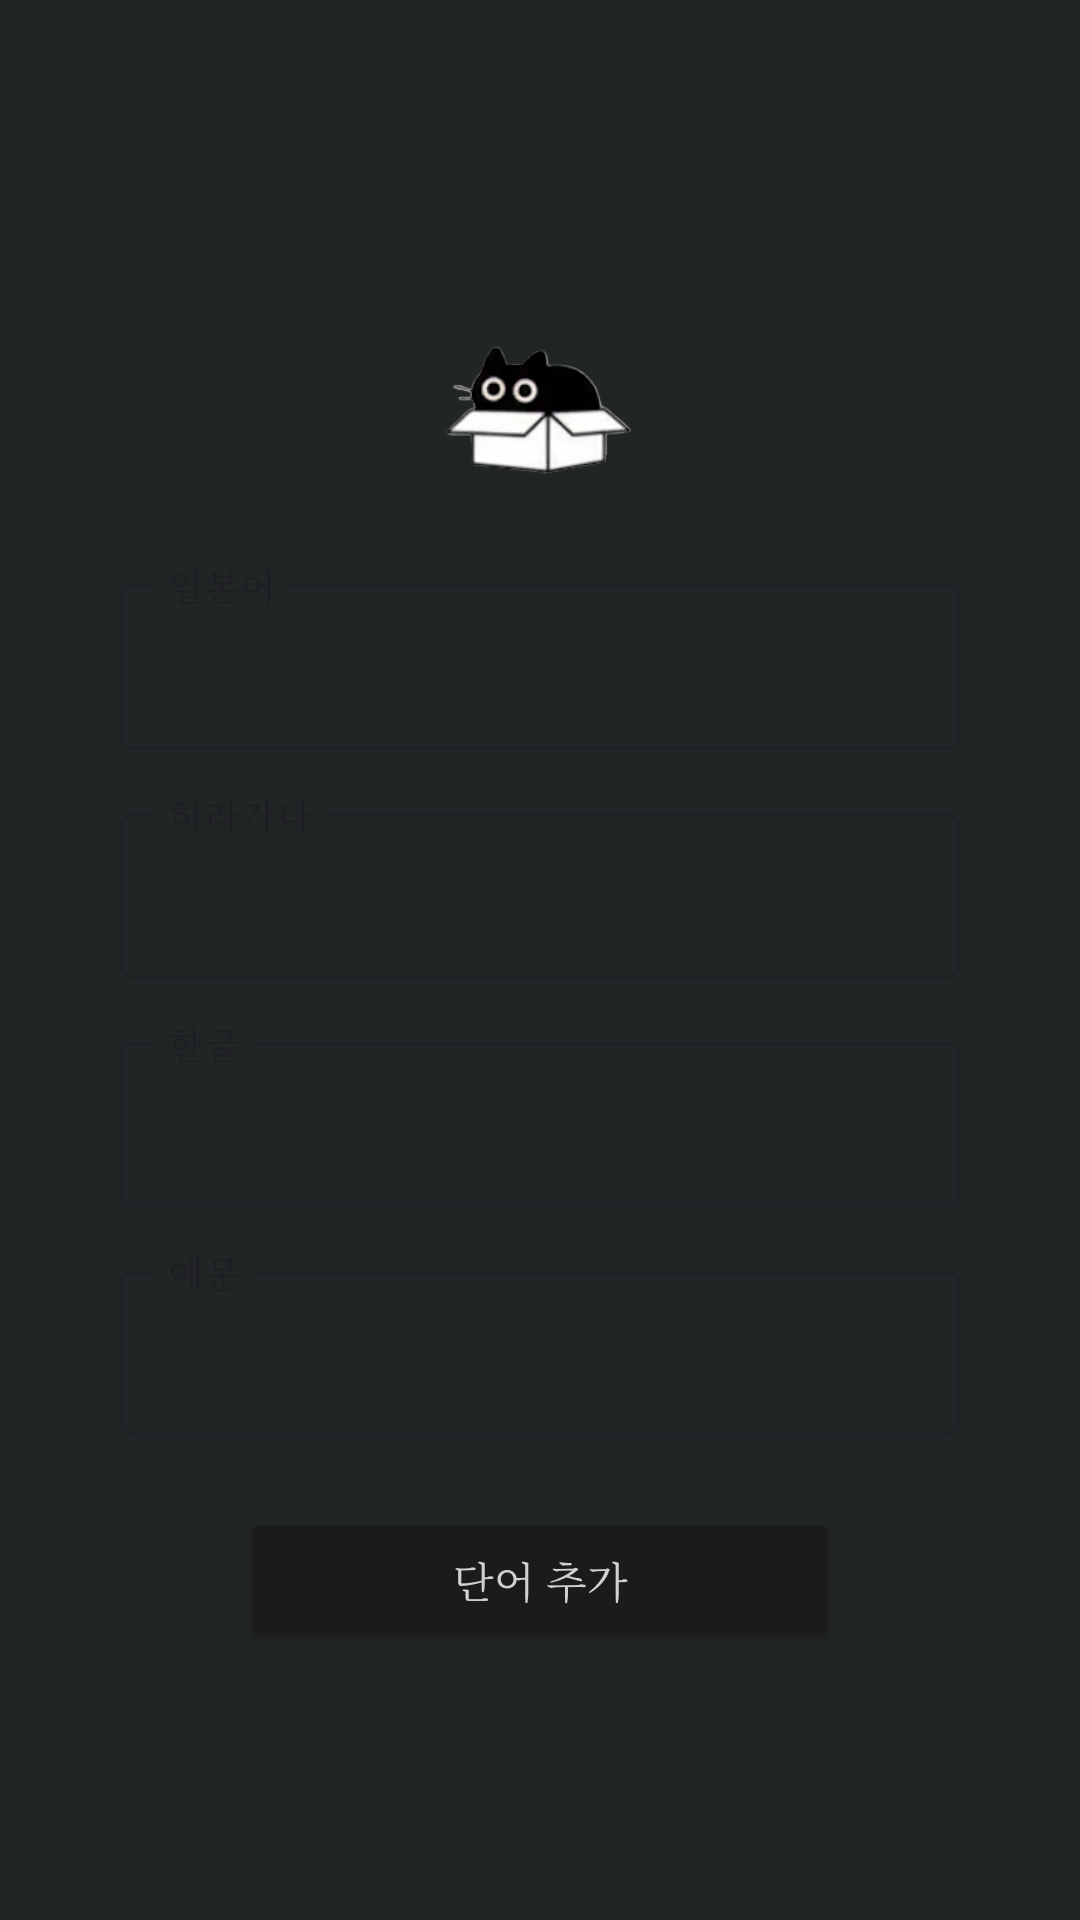

Locate icon controls on the screen. Image size 1080 × 1920, boxes as (x1, y1, x2, y2).
cat: (446, 346, 631, 473)
